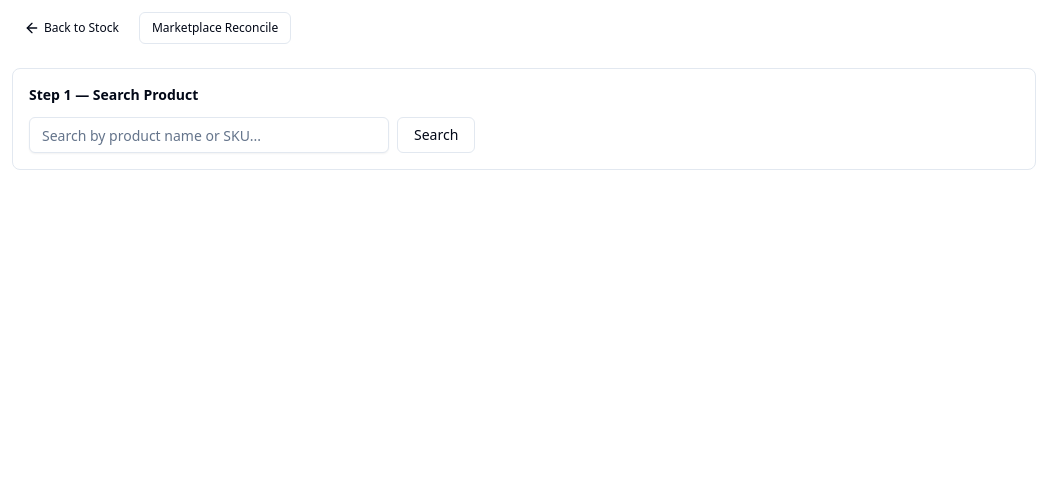
Test: shows correct After value for Add type
Type "Shirt" into the field with placeholder "Search by product name or SKU...". click: coordinates (209, 135)
box: [29, 117, 389, 153]
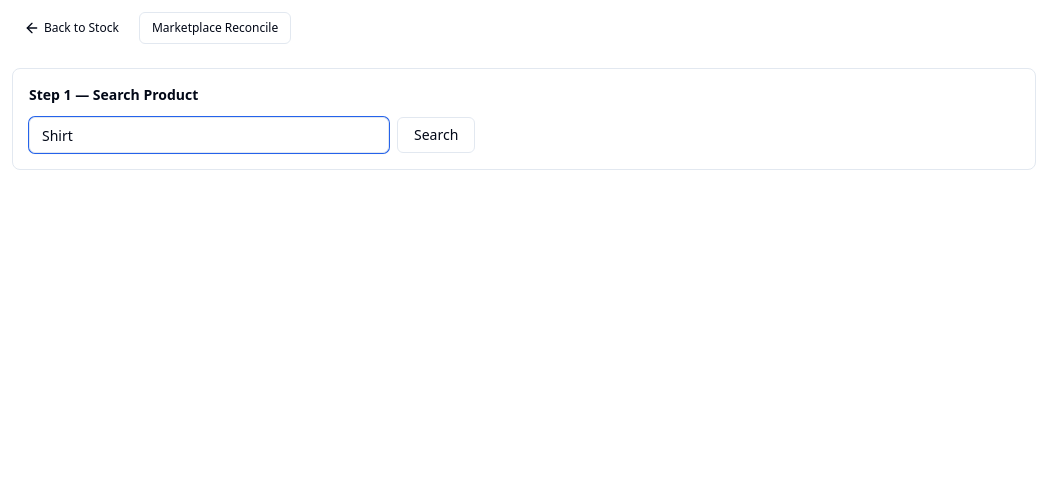
Press Enter
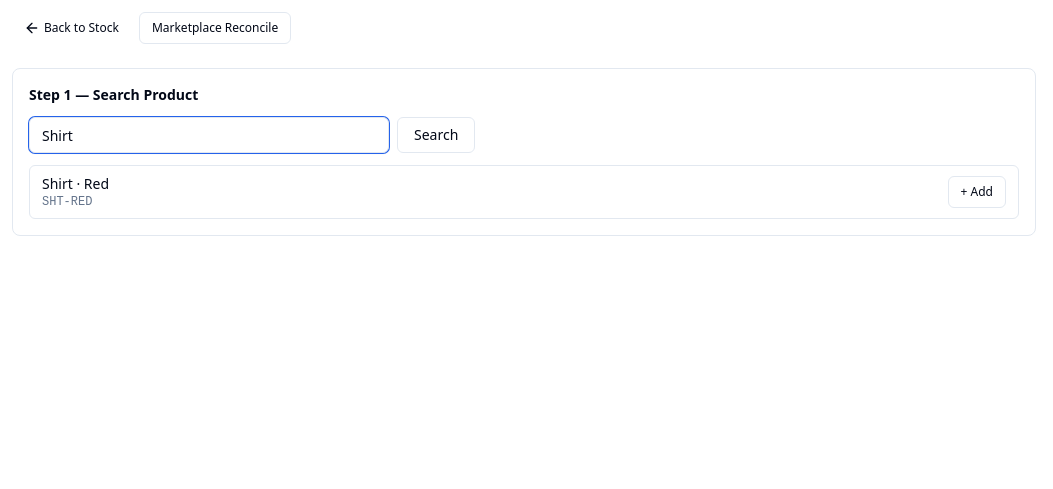
Click the button "+ Add". click: coordinates (977, 192)
box: [948, 176, 1006, 208]
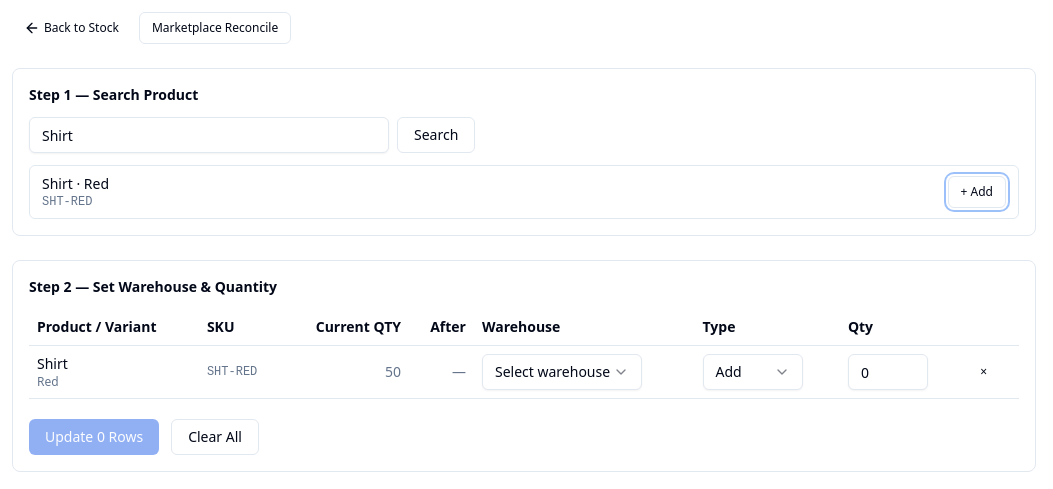
Click the dropdown labelled "Select warehouse". click: coordinates (562, 372)
box: [482, 354, 642, 390]
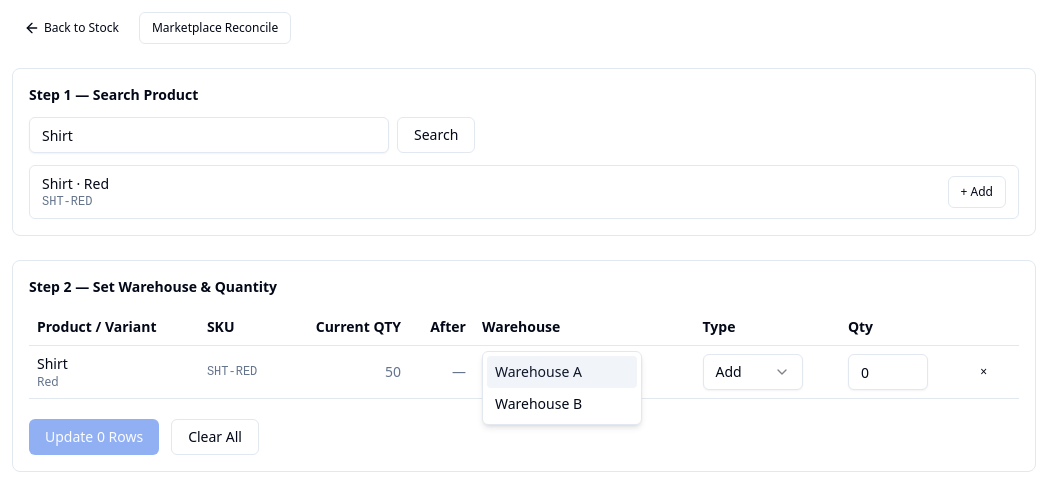
Click the option "Warehouse A". click: coordinates (562, 372)
box: [487, 356, 637, 388]
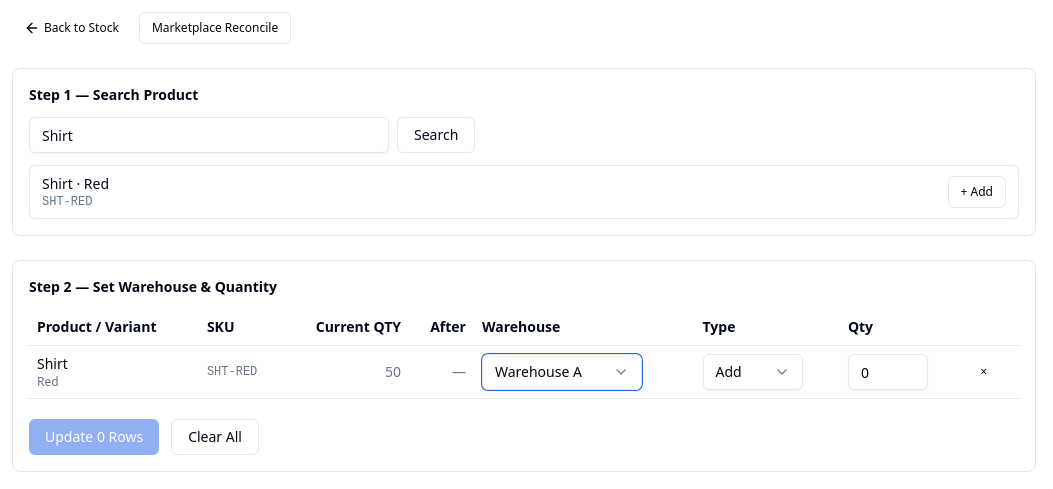
Type "10" into the number field. click: coordinates (888, 372)
box: [848, 354, 928, 390]
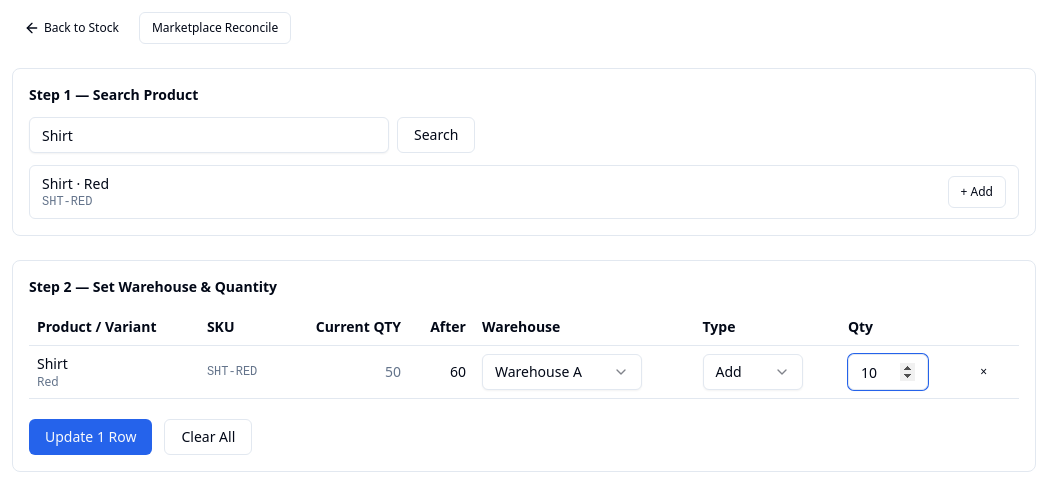
Now the text "60" is shown, box [450, 362, 466, 381]
